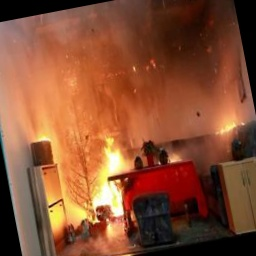fire: (74, 129, 147, 223)
